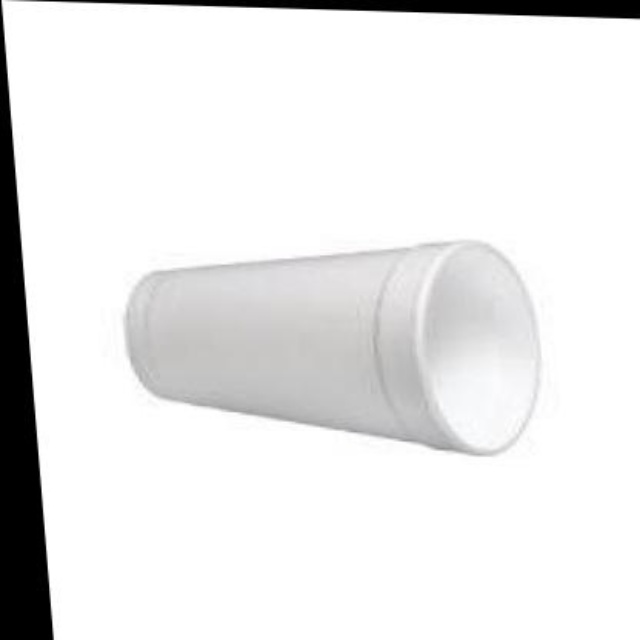trash: (126, 242, 538, 452)
